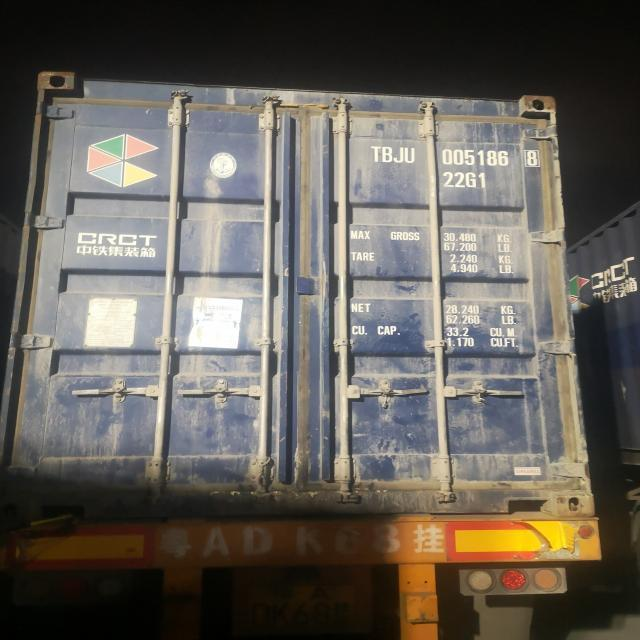ISO: (446, 172, 486, 190)
container_number: (376, 151, 542, 167)
